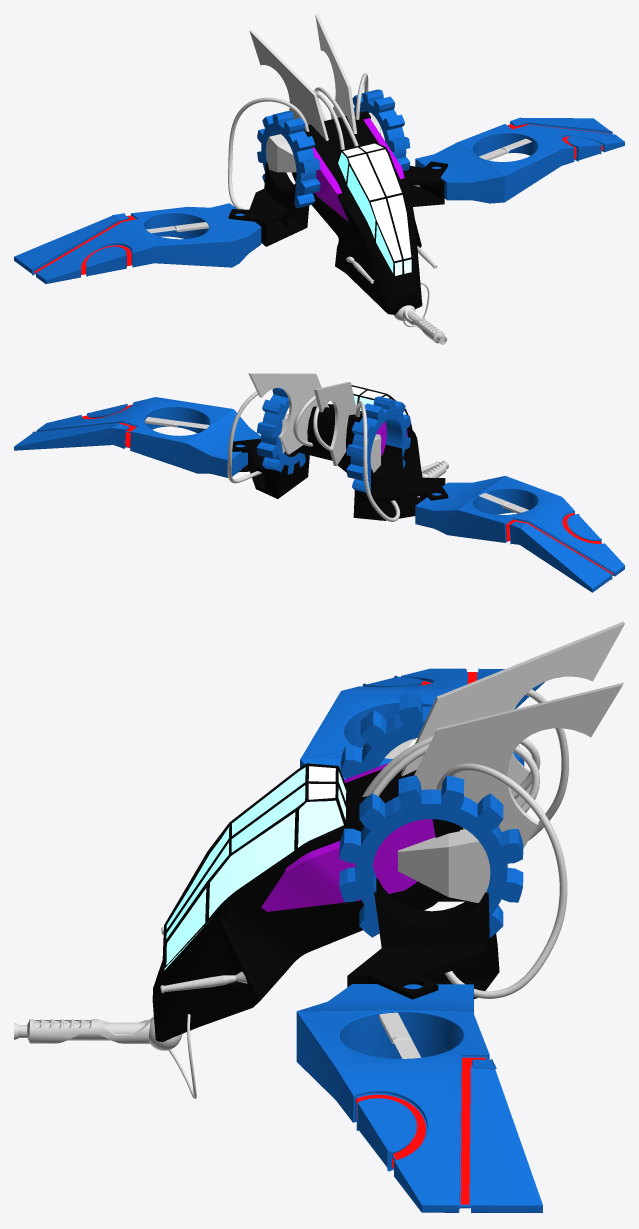
The model's file is fly-bot_with_moving_nozzle.fbx.
The picture shows the model from 3 angles, top to bottom: view 1: azimuth 30°, elevation 25°; view 2: azimuth 150°, elevation 25°; view 3: azimuth 270°, elevation 25°; orthographic projection. The views are drawn at different scales.
Parts seen in each view (by area): view 1: chesis.001, gun; view 2: chesis.001; view 3: chesis.001, gun.
Boxes of the visible parts, bbox=[...] form: chesis.001: bbox=[14, 14, 624, 327]; gun: bbox=[402, 308, 447, 344]; chesis.001: bbox=[14, 373, 624, 592]; chesis.001: bbox=[149, 621, 624, 1212]; gun: bbox=[14, 1019, 150, 1043].
Size of the model in its own units: 2082 by 774 by 1003.
